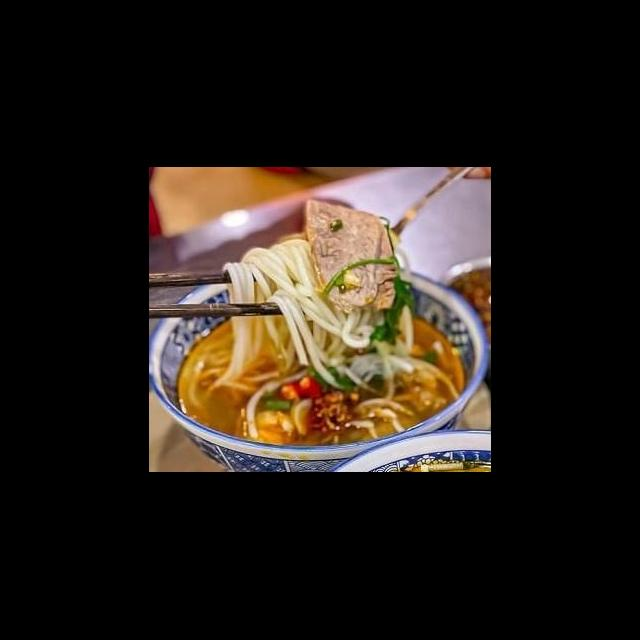bun: (206, 232, 375, 394)
bun bo: (168, 201, 460, 448)
thit bo: (300, 196, 401, 316)
